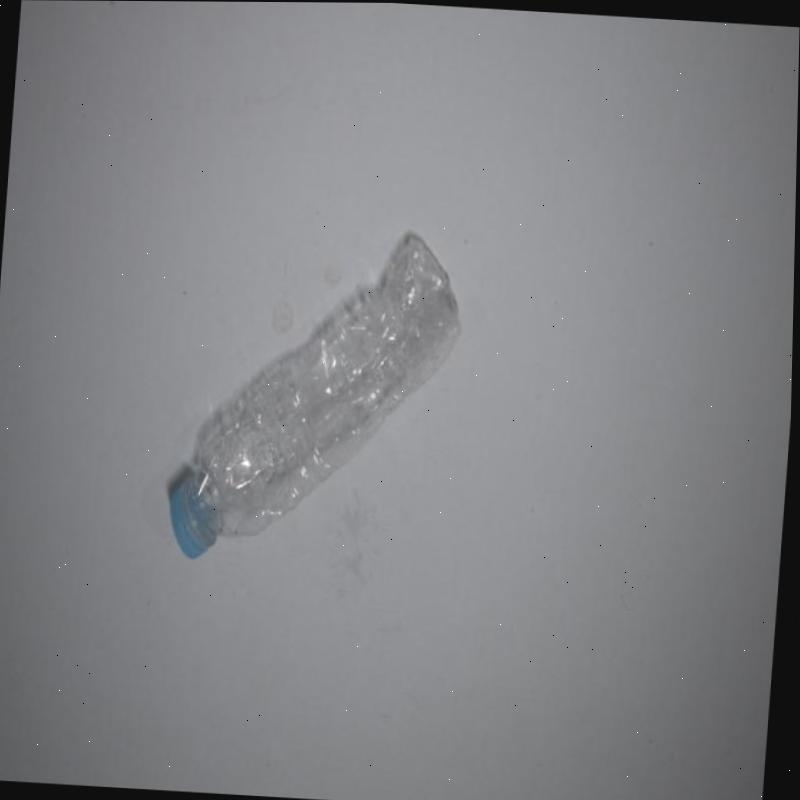botella: (164, 220, 469, 572)
